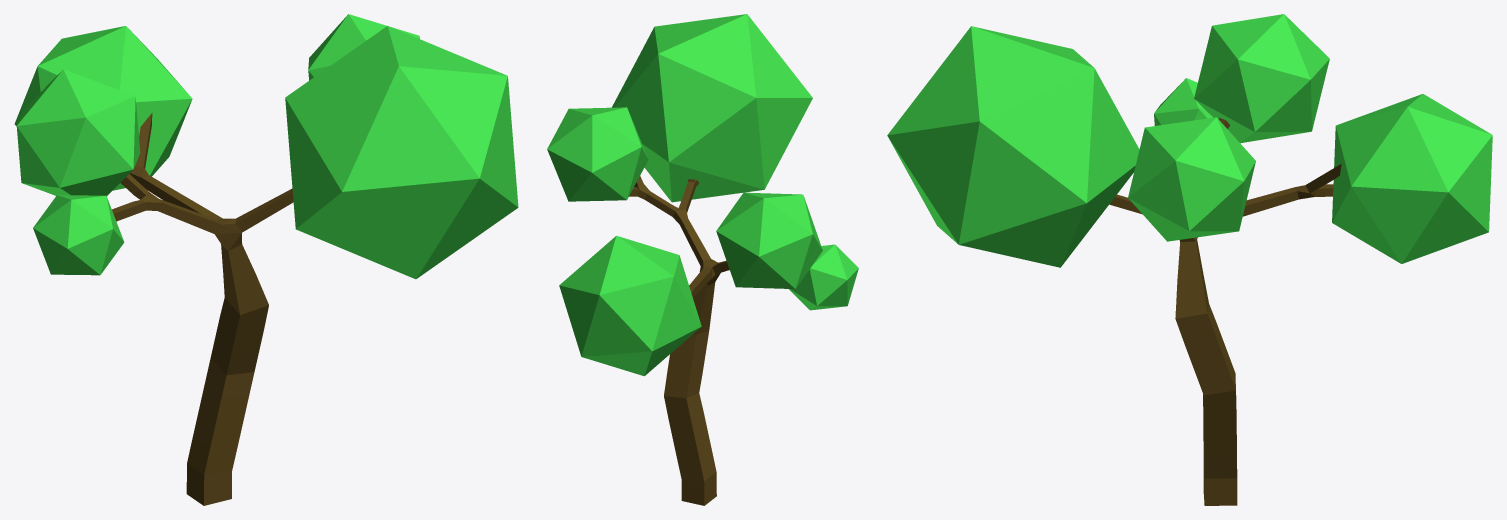
Rendered from Tree 1.fbx.
3 renders of one model, left to right at view 1: azimuth 30°, elevation 25°; view 2: azimuth 150°, elevation 25°; view 3: azimuth 270°, elevation 25°, orthographic. The views are drawn at different scales.
Visible parts, largest first — view 1: Tree 1; view 2: Tree 1; view 3: Tree 1.
Part boxes in pixels (x1,y1,x2,y2): Tree 1: (14, 14, 518, 505); Tree 1: (547, 14, 858, 505); Tree 1: (887, 14, 1492, 505).
Size of the model in its own units: 670 by 850 by 926.
